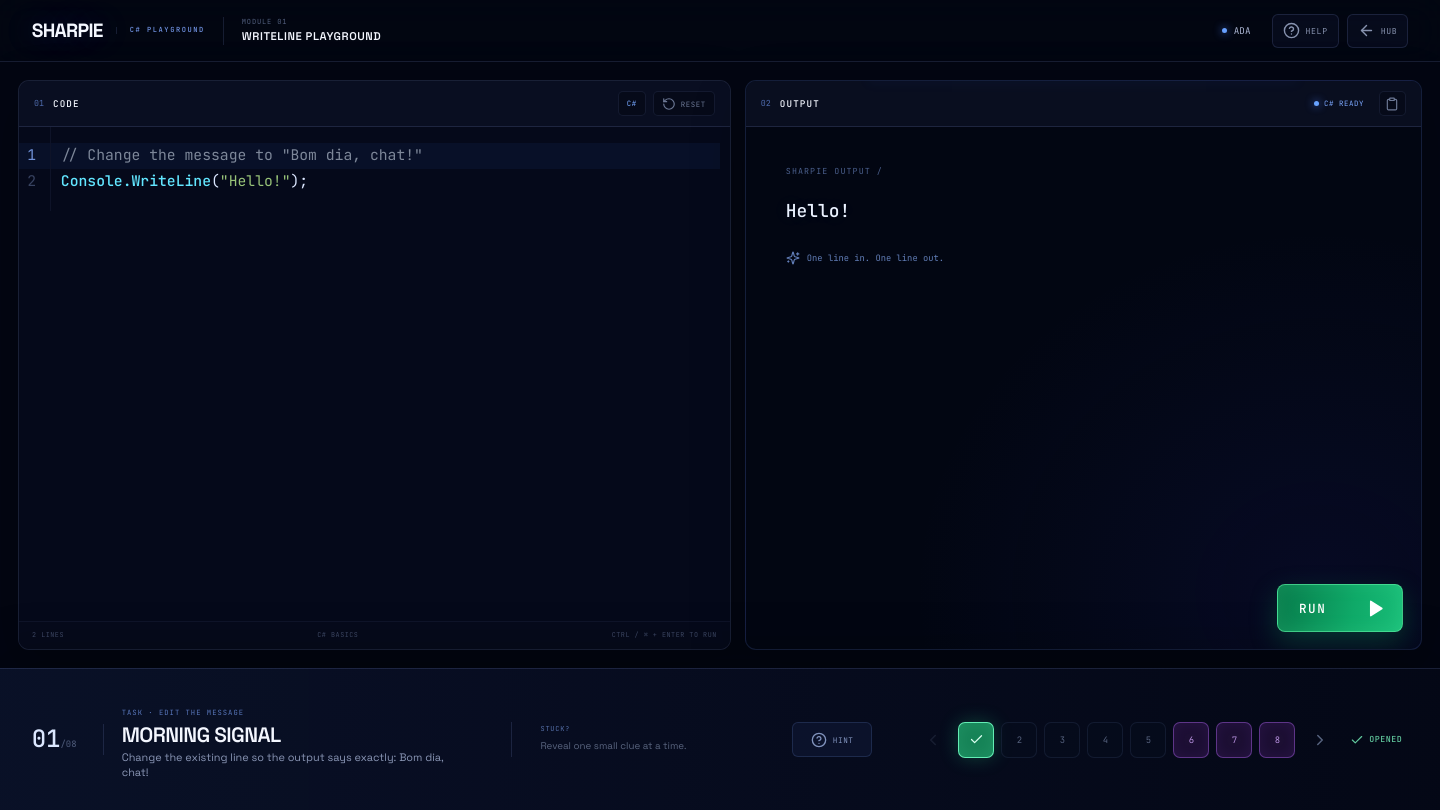
Test: WriteLine playground diagnostics › marks the optional activities as purple extras
Expected: the button "RUN" is enabled, [1277,584,1403,632]
Click the button "6". click: (1191, 740)
box: [1173,722,1209,758]
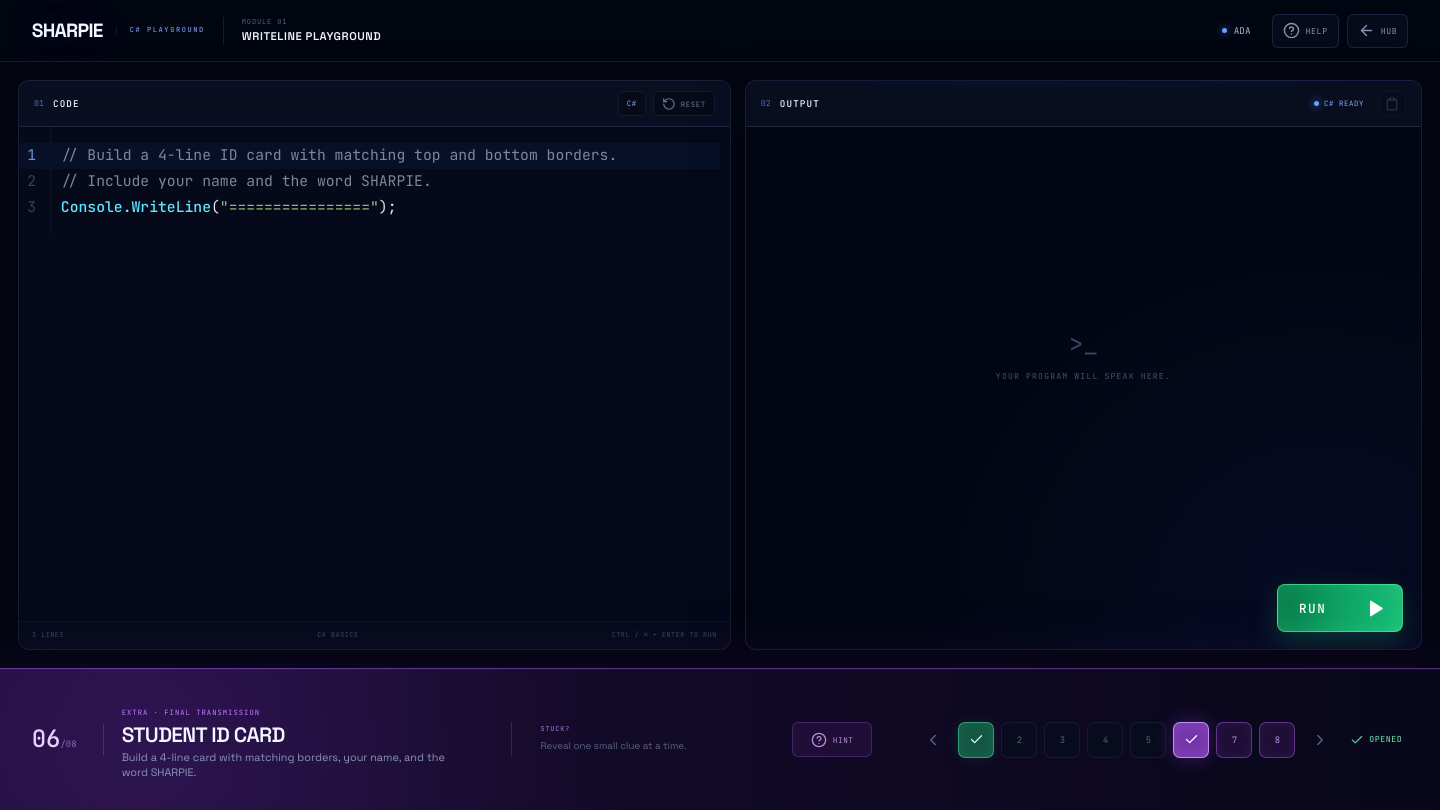
Expected: the text "EXTRA · FINAL TRANSMISSION" is shown, [122,709,260,718]
